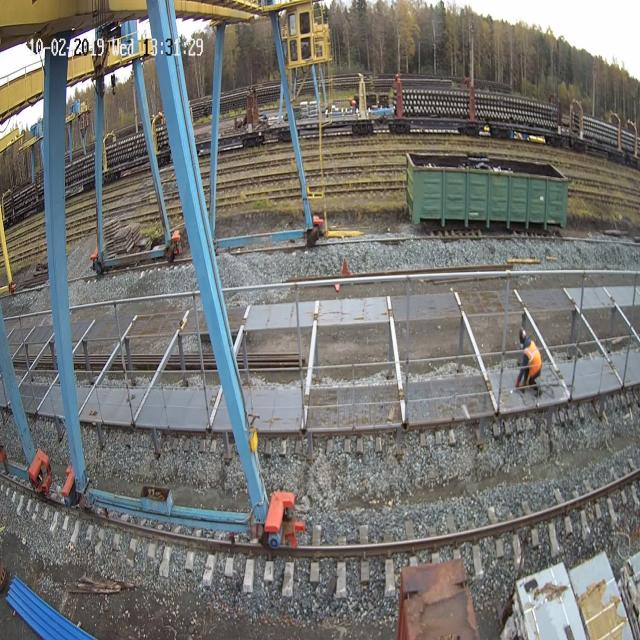Helmet: (519, 327, 526, 342)
Person: (515, 327, 542, 397)
